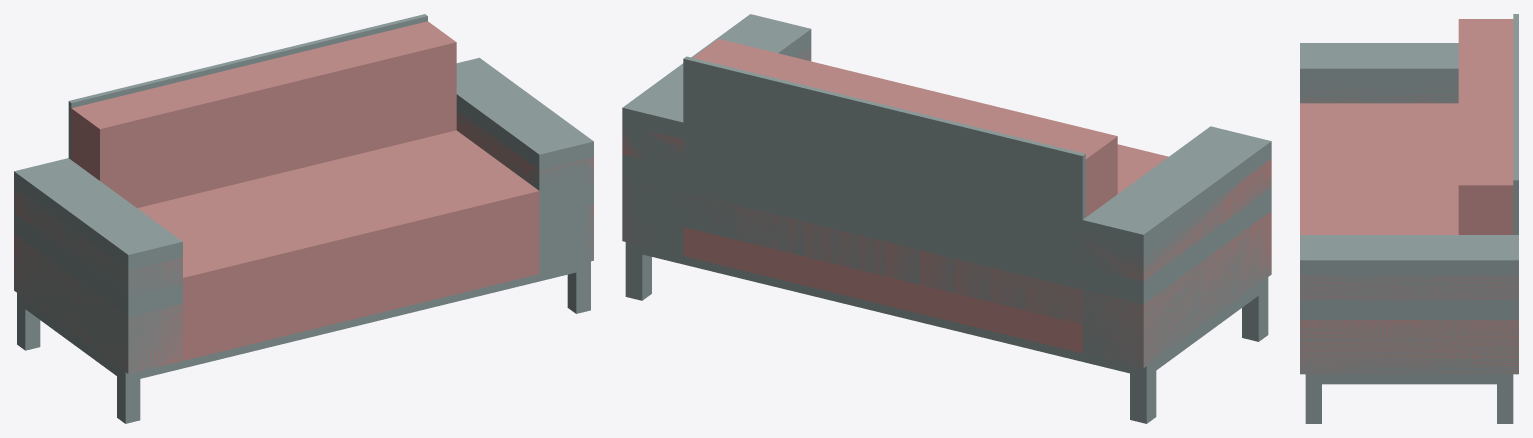
The model's file is sofaIndustrial.glb.
3 views of the same model, side by side, from view 1: azimuth 30°, elevation 25°; view 2: azimuth 150°, elevation 25°; view 3: azimuth 270°, elevation 25° (orthographic). The views are drawn at different scales.
Visible parts, largest first — view 1: sofaIndustrial; view 2: sofaIndustrial; view 3: sofaIndustrial.
Part boxes in pixels (<box>): sofaIndustrial: <box>14,14,593,423</box>; sofaIndustrial: <box>622,14,1271,423</box>; sofaIndustrial: <box>1300,14,1518,423</box>.
Size of the model in its own units: 0.94 by 0.44 by 0.4.
